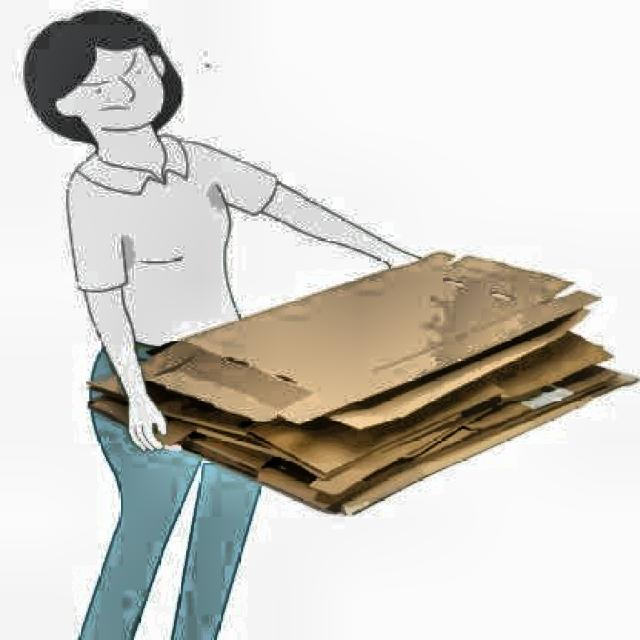Cardbox: (98, 243, 640, 525)
